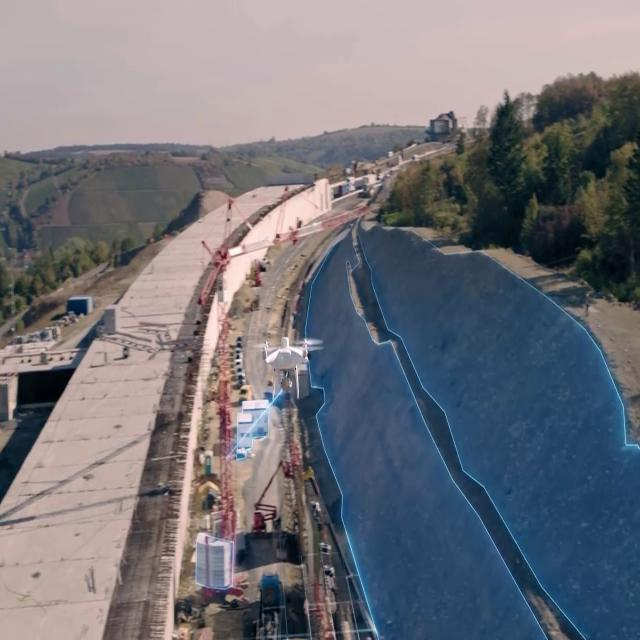drone: (253, 337, 323, 400)
